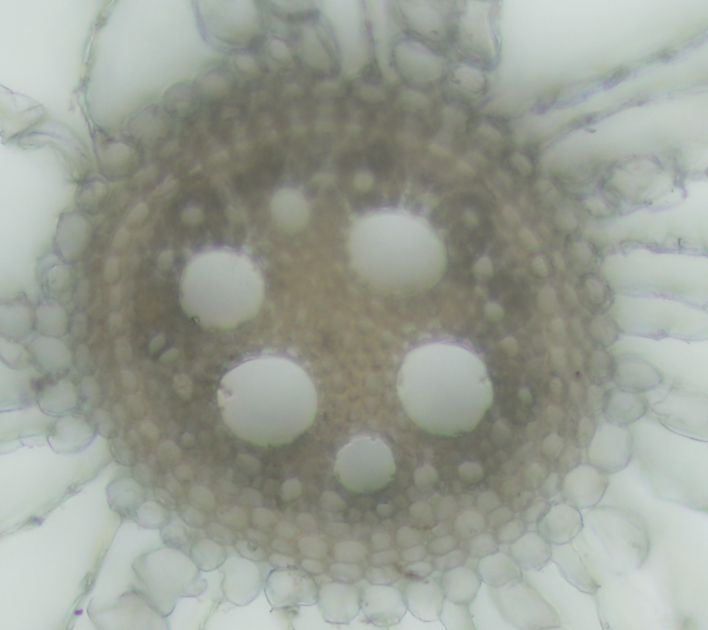lm: (217, 355, 318, 449), (348, 207, 449, 299), (397, 343, 494, 437), (179, 246, 264, 334), (334, 435, 396, 494), (269, 187, 314, 238)
